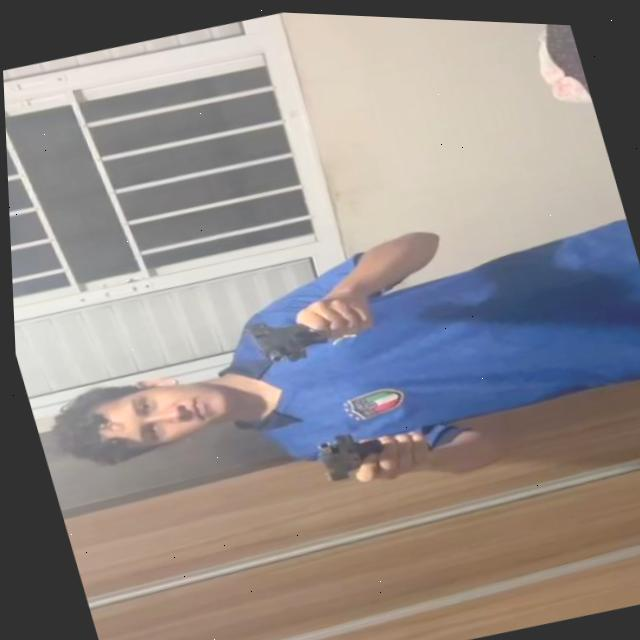gun: (236, 302, 328, 371), (303, 417, 390, 489)
